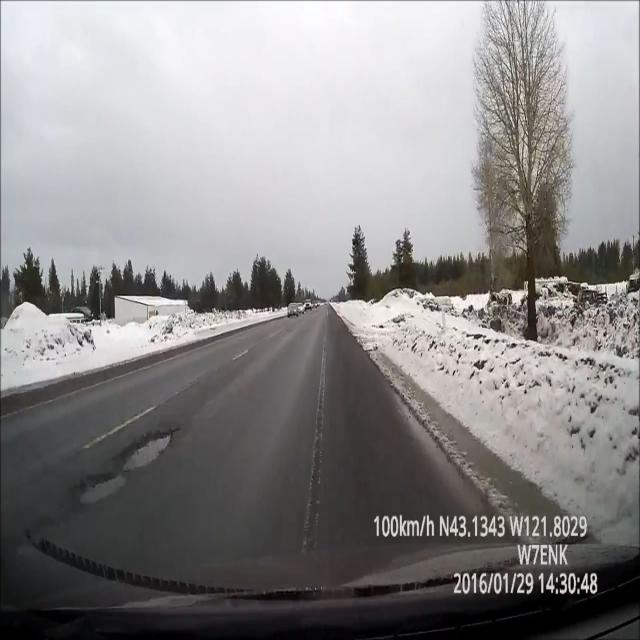Pothole: (78, 420, 182, 512)
